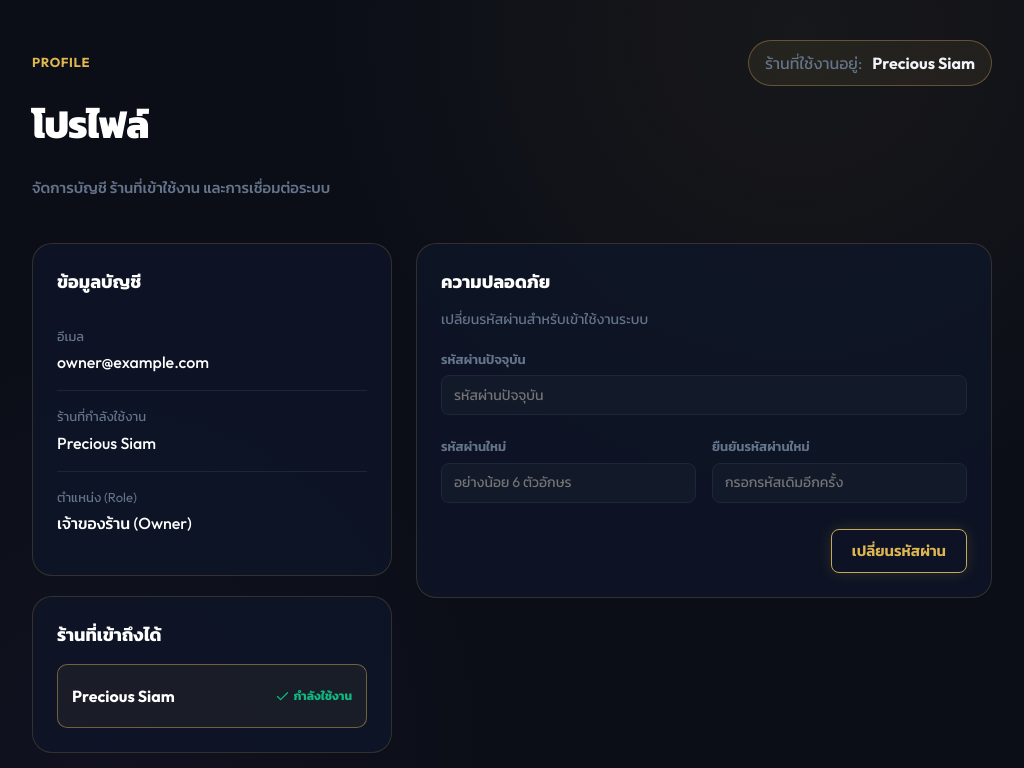
Scenario: ProfilePage › changes the current user password and shows success feedback
The image size is (1024, 768).
Type "old-secret" into the password field labelled "รหัสผ่านปัจจุบัน" at {"x": 704, "y": 395}, box [441,375,967,415]
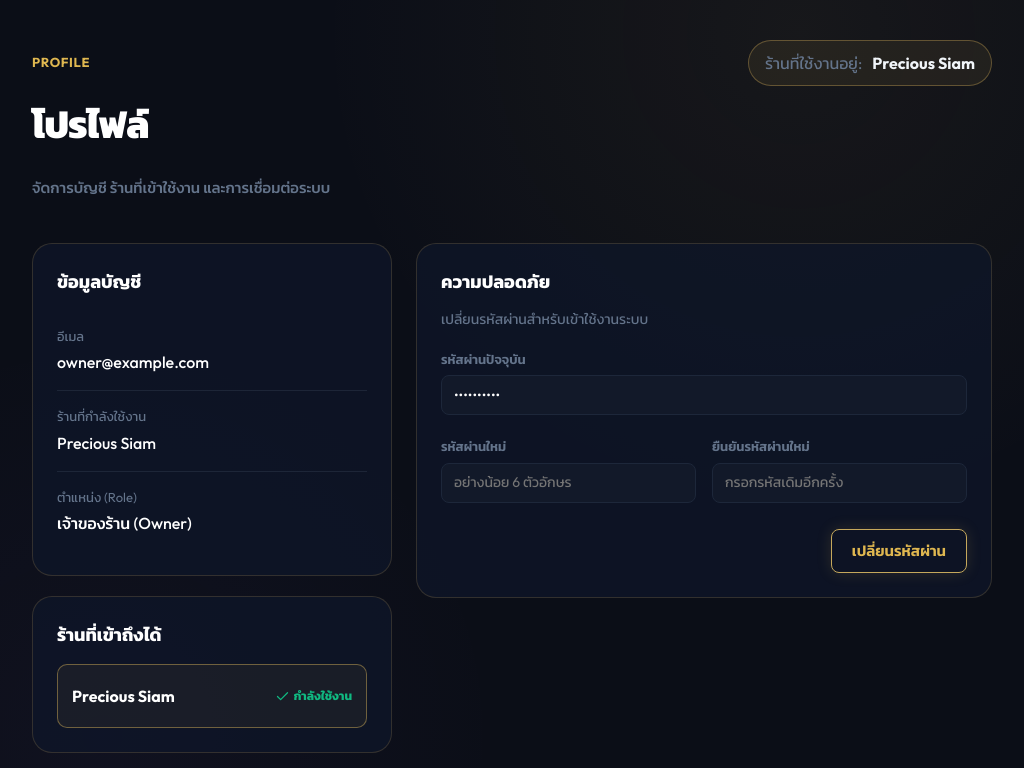
Type "secret123" into the password field labelled "รหัสผ่านใหม่" at {"x": 568, "y": 483}, box [441,463,696,503]
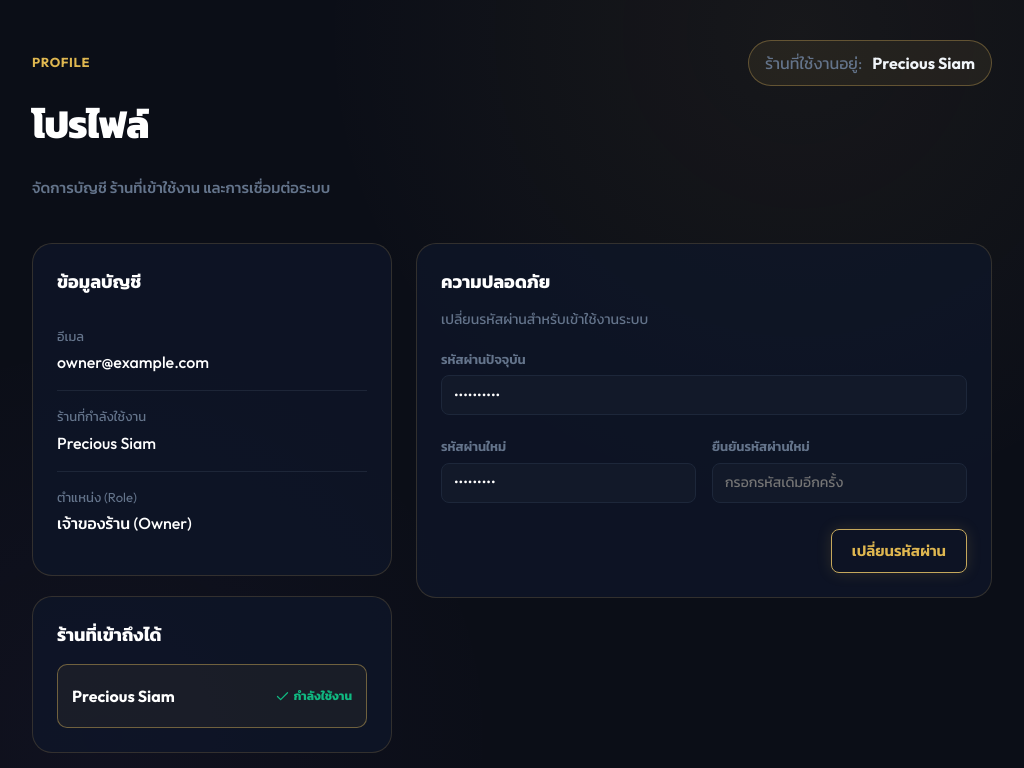
Type "secret123" into the password field labelled "ยืนยันรหัสผ่านใหม่" at {"x": 840, "y": 483}, box [712,463,967,503]
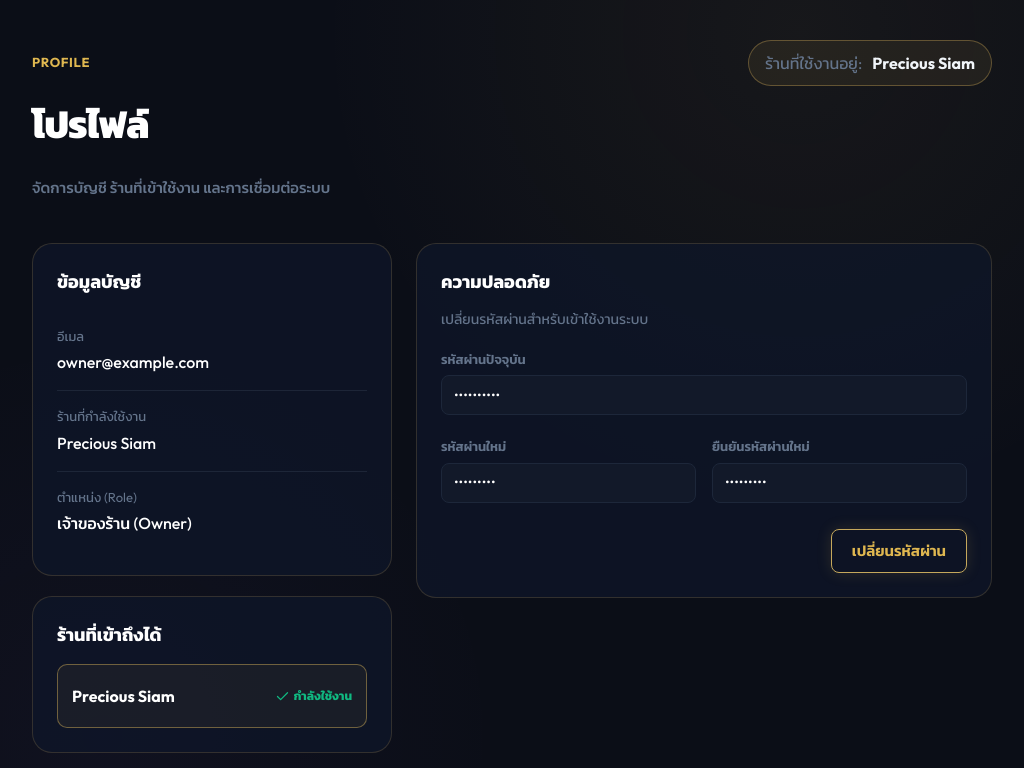
Click the button "เปลี่ยนรหัสผ่าน" at {"x": 899, "y": 551}, box [831,529,967,573]
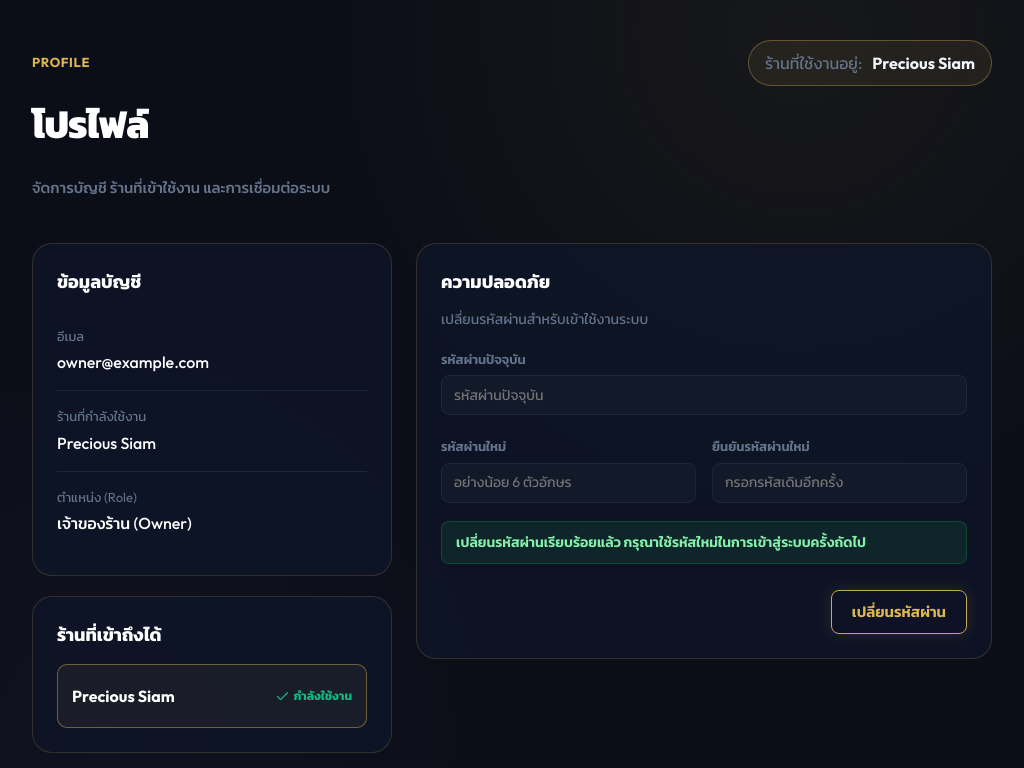
Expected: the text "เปลี่ยนรหัสผ่านเรียบร้อยแล้ว กรุณาใช้รหัสใหม่ในการเข้าสู่ระบบครั้งถัดไป" is shown, [441,521,967,564]
